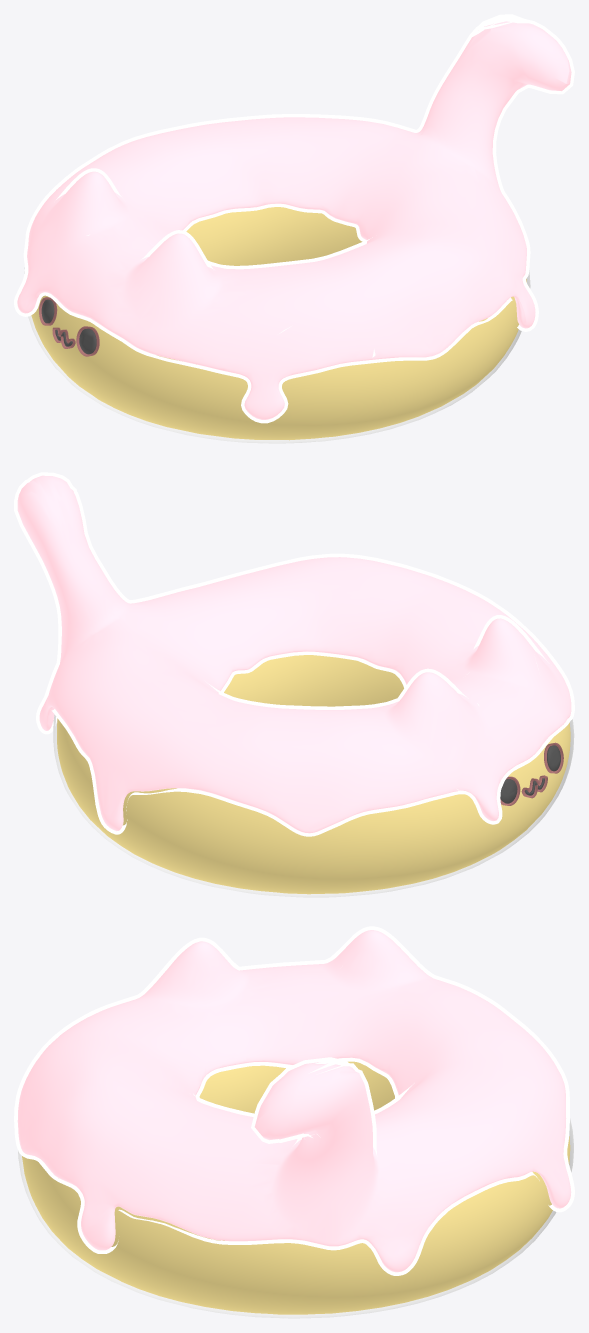
File: cat-9ec0dd81.glb
3 renders of one model, top to bottom at view 1: azimuth 30°, elevation 25°; view 2: azimuth 150°, elevation 25°; view 3: azimuth 270°, elevation 25°, orthographic. The views are drawn at different scales.
Visible parts, largest first — view 1: polewka_0, donut_2, twarz_1; view 2: polewka_0, donut_2, twarz_1; view 3: polewka_0, donut_2.
Part boxes in pixels (<box>): polewka_0: <box>14,14,574,423</box>; donut_2: <box>24,207,530,443</box>; twarz_1: <box>39,297,99,356</box>; polewka_0: <box>14,472,574,836</box>; donut_2: <box>53,655,574,897</box>; twarz_1: <box>500,742,563,805</box>; polewka_0: <box>14,926,574,1275</box>; donut_2: <box>18,1061,573,1318</box>.
Bounding box in the file's own units: 0.1707 × 0.0881 × 0.1479.
